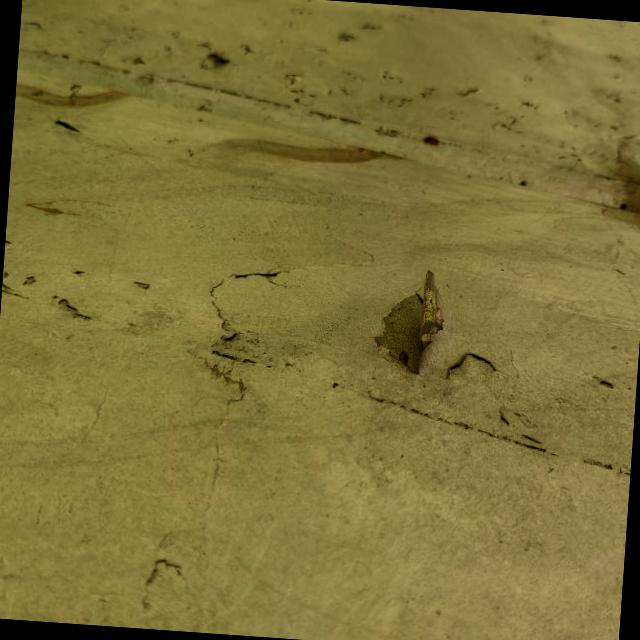paint-off: (347, 249, 470, 400)
